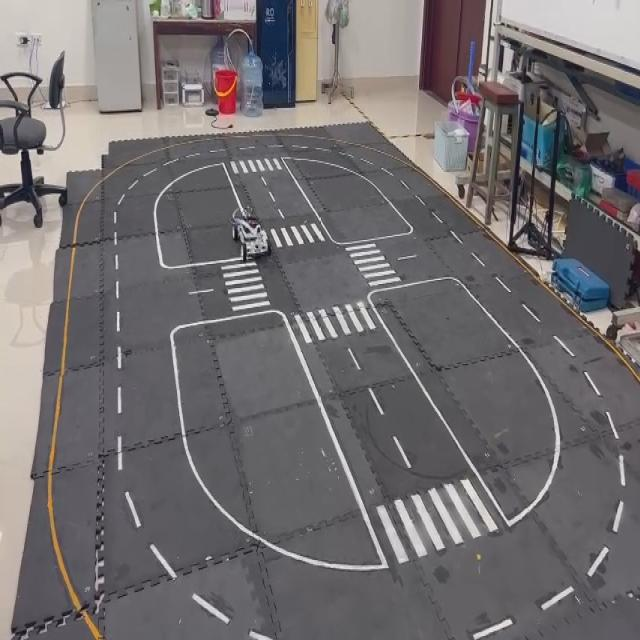SiCo-CAR: (228, 204, 270, 263)
